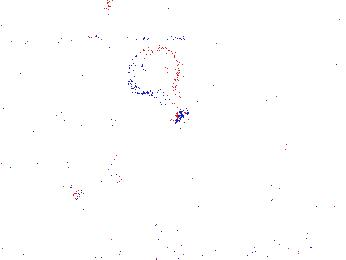flame jellyfish: (119, 43, 190, 124), (247, 161, 319, 204), (65, 152, 125, 202)
